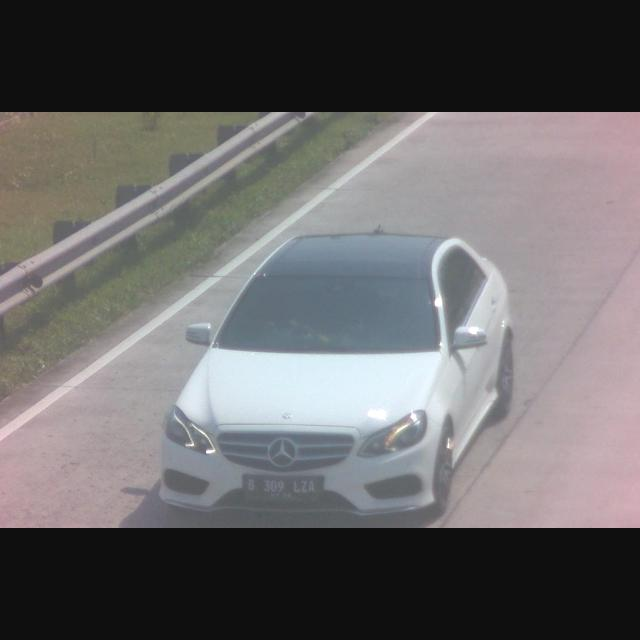plate: (243, 476, 321, 501)
